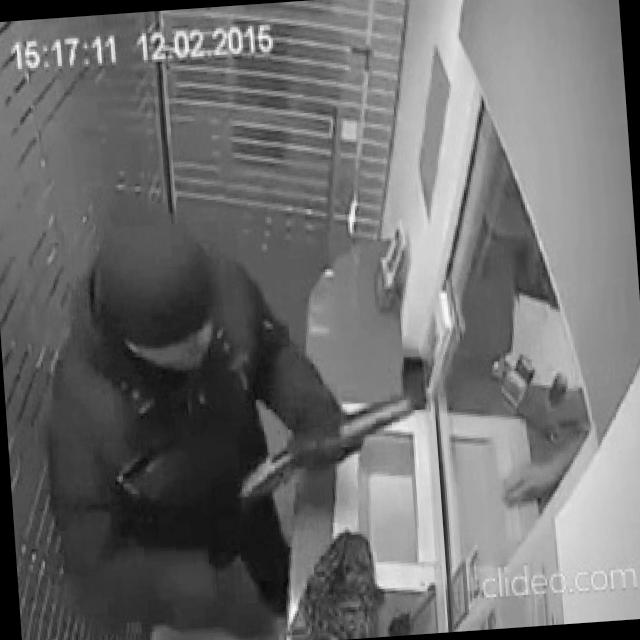gun: (218, 386, 427, 520)
person with a gun: (29, 199, 437, 640)
